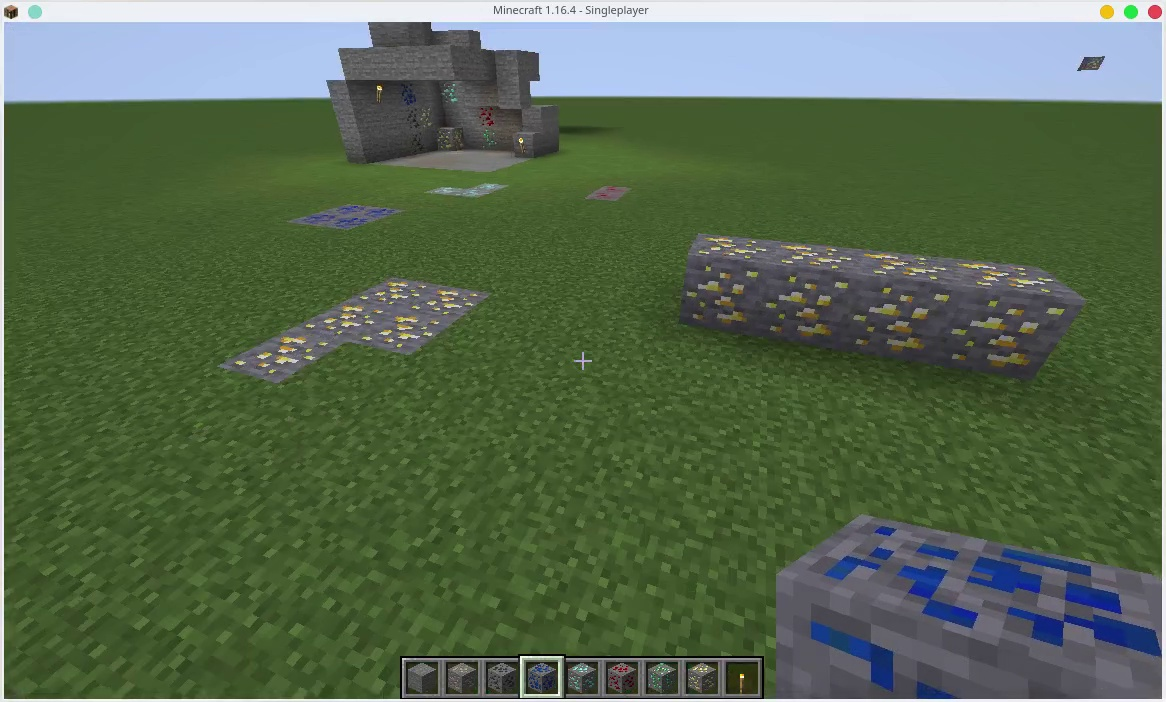gold: (970, 263, 1077, 392), (672, 226, 764, 331), (772, 240, 852, 354), (859, 255, 946, 358), (233, 323, 327, 378), (371, 319, 433, 362), (424, 290, 481, 322), (324, 301, 378, 332), (370, 276, 418, 310), (684, 661, 713, 692), (441, 128, 469, 152), (421, 108, 436, 127)
